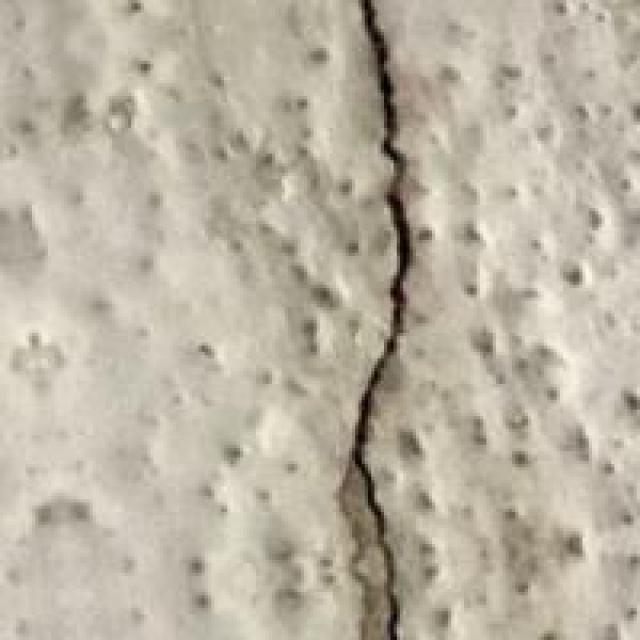Crack: (298, 0, 477, 637)
